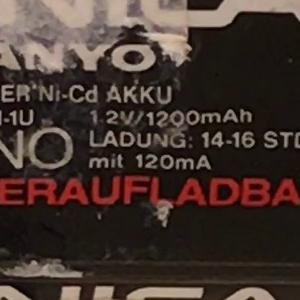keyword: (23, 75, 94, 106)
